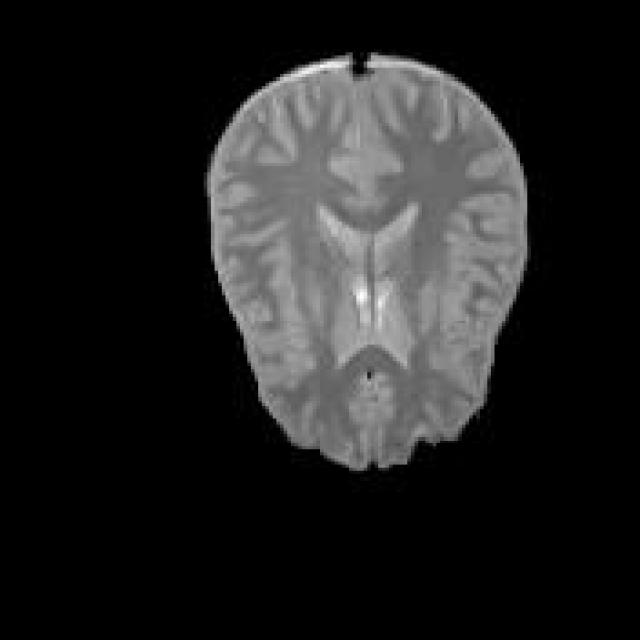CONTROL: (204, 46, 531, 471)
